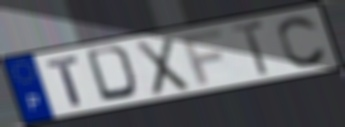C: (276, 14, 329, 69)
D: (83, 44, 143, 104)
F: (179, 27, 225, 87)
T: (229, 19, 273, 79), (44, 53, 86, 108)
X: (133, 34, 192, 98)
